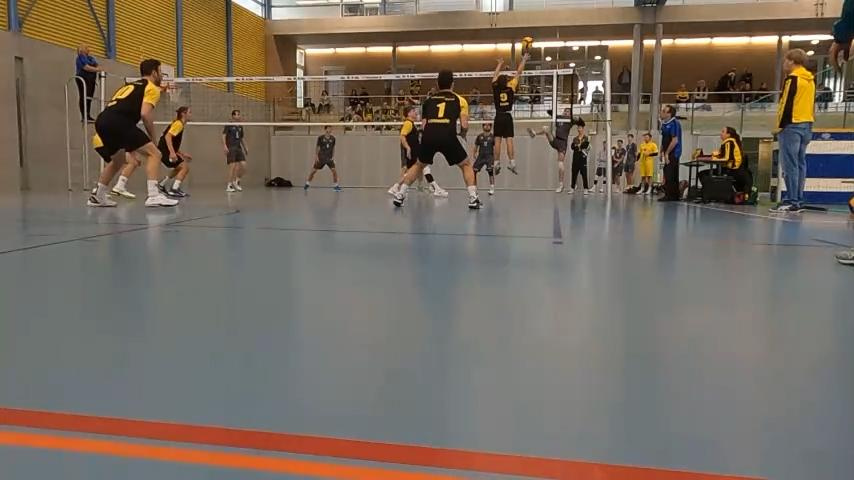muro: (492, 53, 531, 183)
